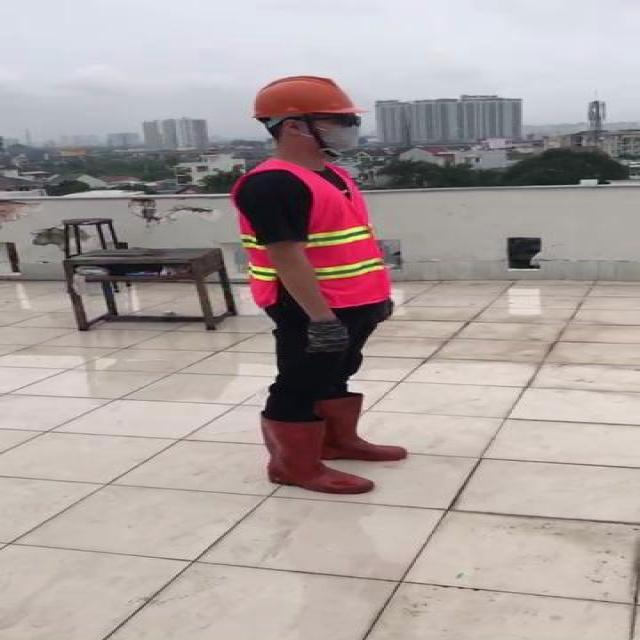boots: (251, 411, 373, 498), (311, 393, 409, 462)
face_mask: (316, 112, 370, 152)
glasses: (322, 110, 364, 130)
hand_glove: (311, 314, 350, 354)
head_helmet: (246, 73, 364, 121)
person: (223, 68, 422, 508)
vest: (230, 157, 388, 305)
